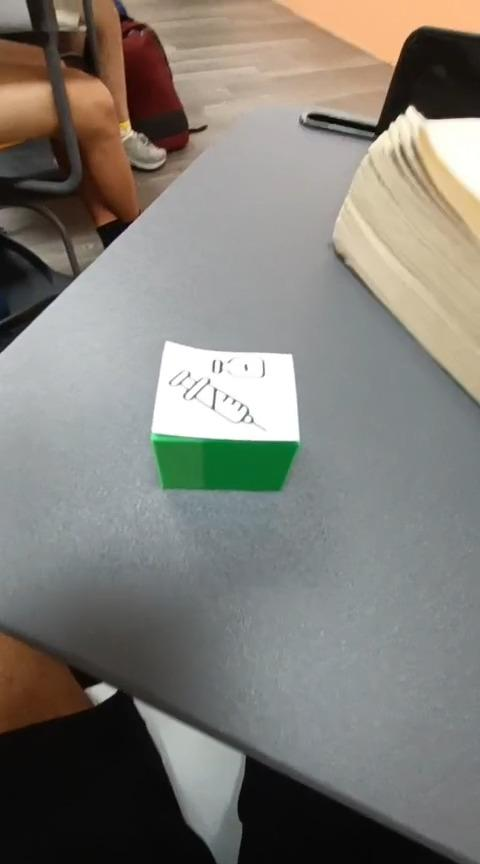antiseptic cream: (148, 338, 301, 492)
